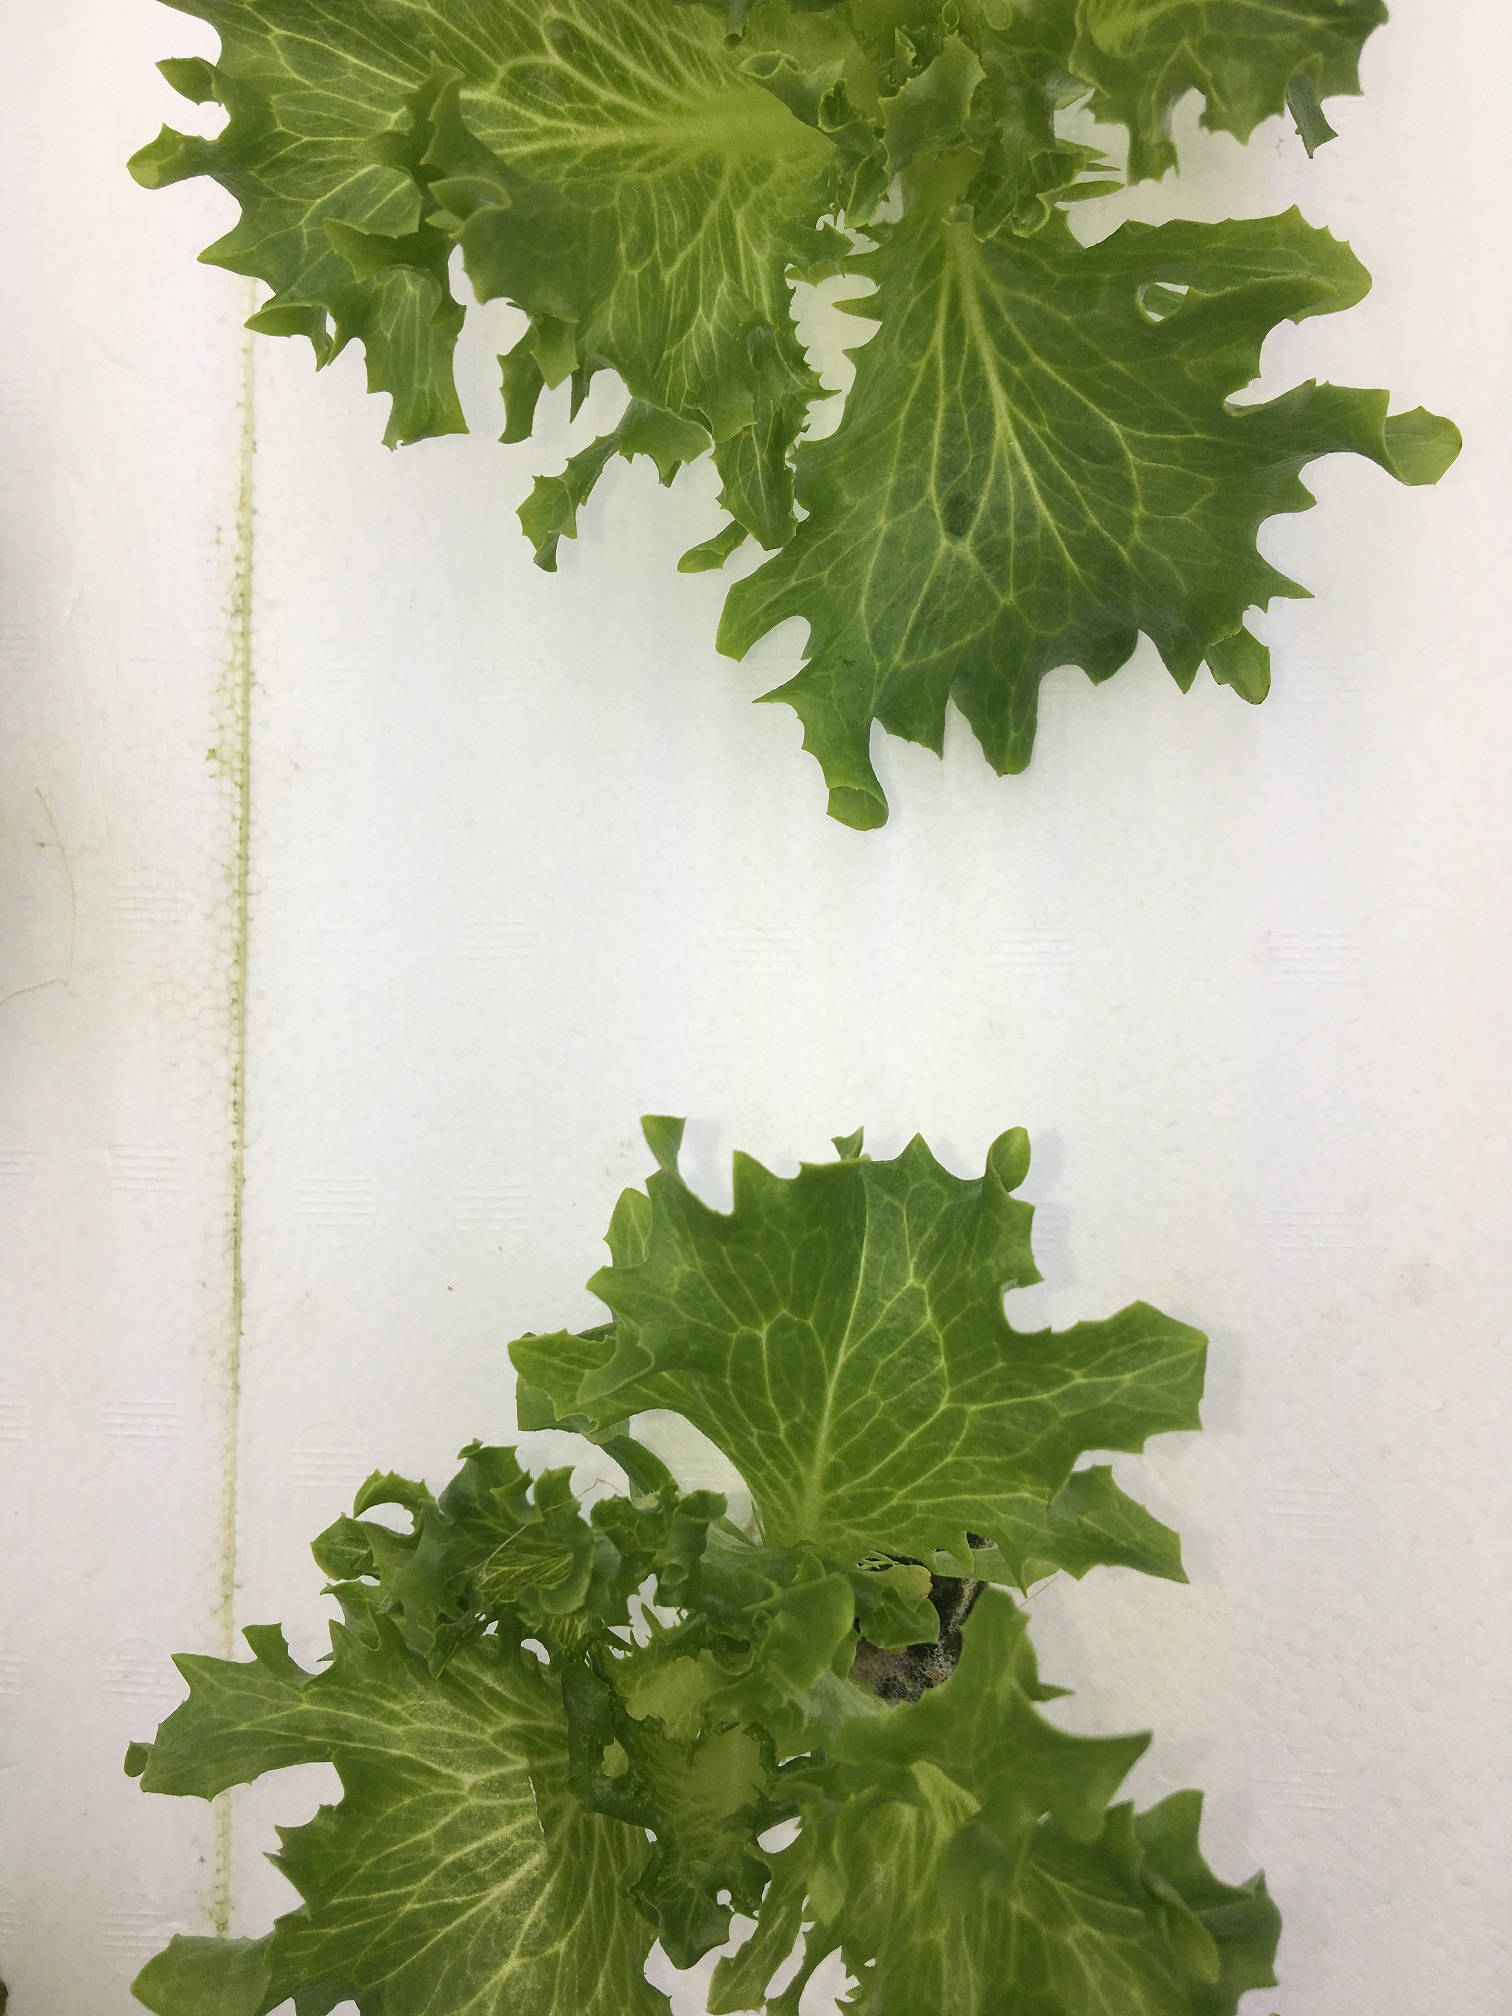tipburn: (1299, 138, 1336, 173)
